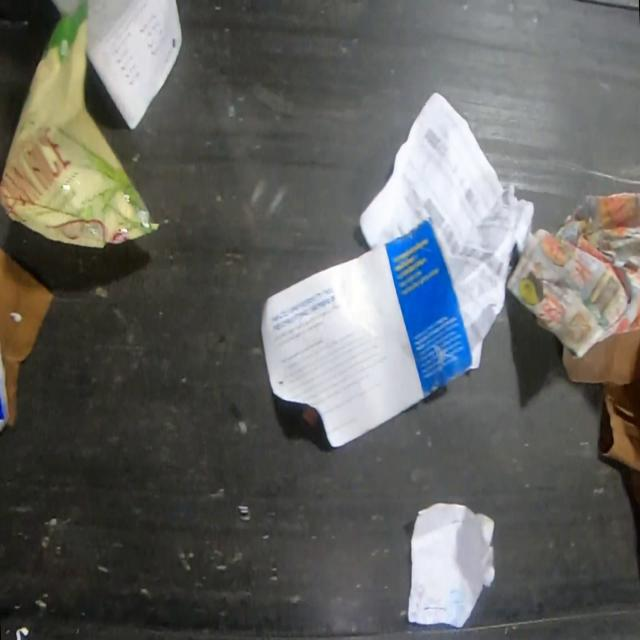cardboard: (562, 325, 640, 474), (0, 246, 54, 429)
soft_plastic: (1, 0, 161, 251)
